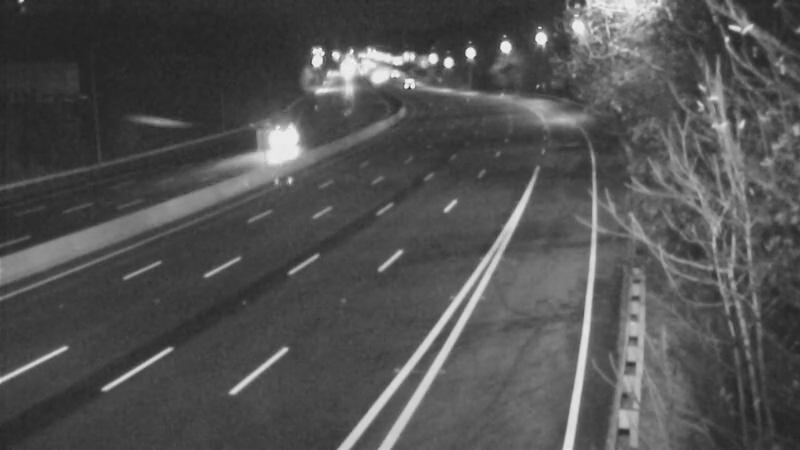vehicle: (379, 56, 429, 106), (352, 53, 402, 103), (259, 122, 309, 172)
